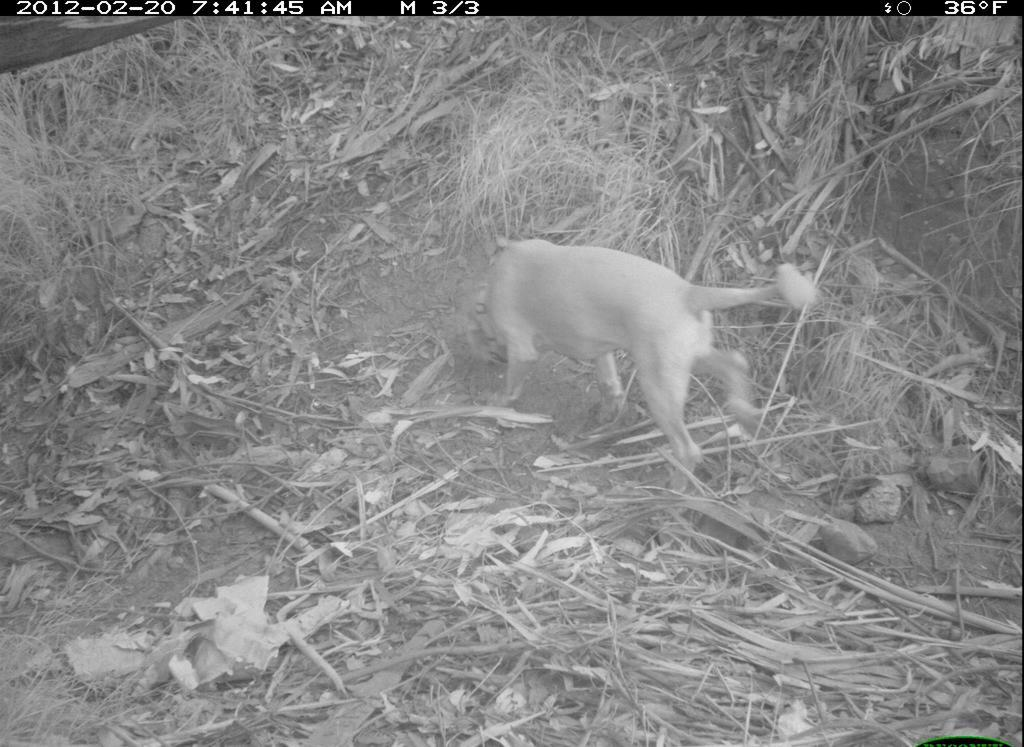dog: (460, 231, 821, 506)
